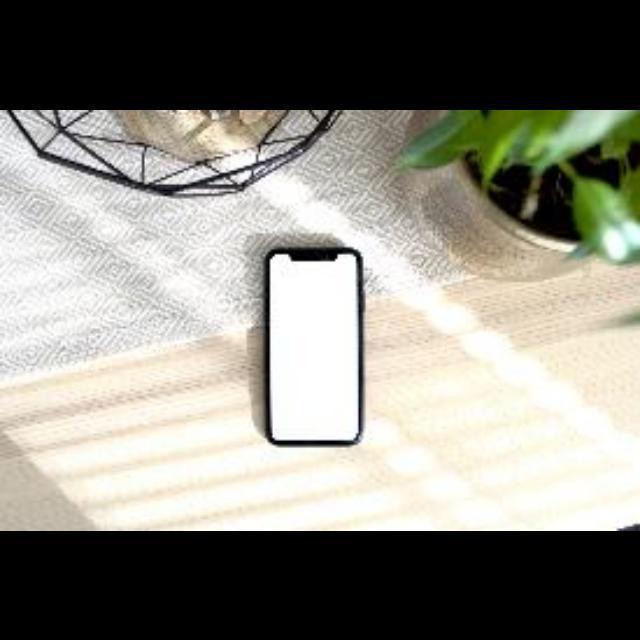phone: (260, 247, 361, 447)
